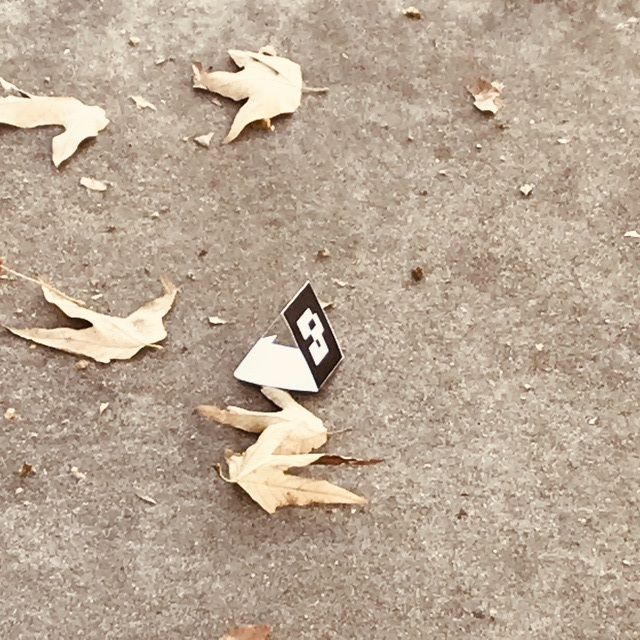ARTag: (233, 281, 344, 394)
